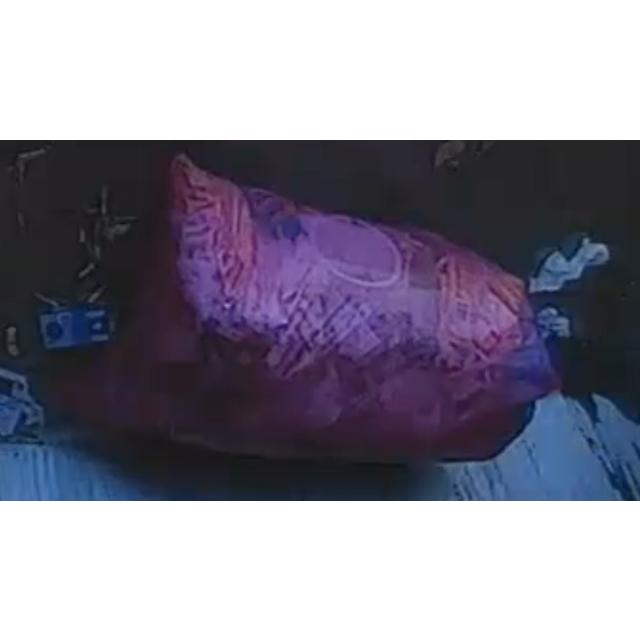other_trashbag: (105, 154, 558, 460)
